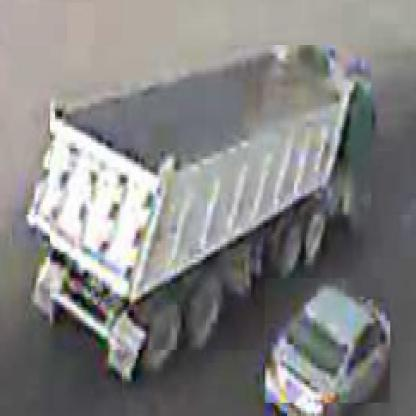car: (264, 280, 391, 407)
truck: (49, 46, 372, 353)
